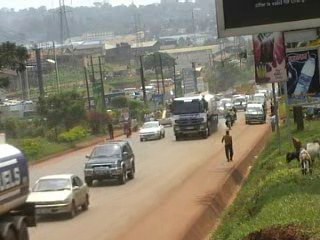Car: (24, 172, 92, 221), (74, 138, 139, 187), (133, 117, 168, 146), (229, 95, 248, 110), (214, 100, 228, 117), (218, 96, 233, 109)
Motorcycle: (225, 108, 236, 127), (223, 111, 233, 131), (124, 120, 133, 139), (230, 103, 240, 120)
